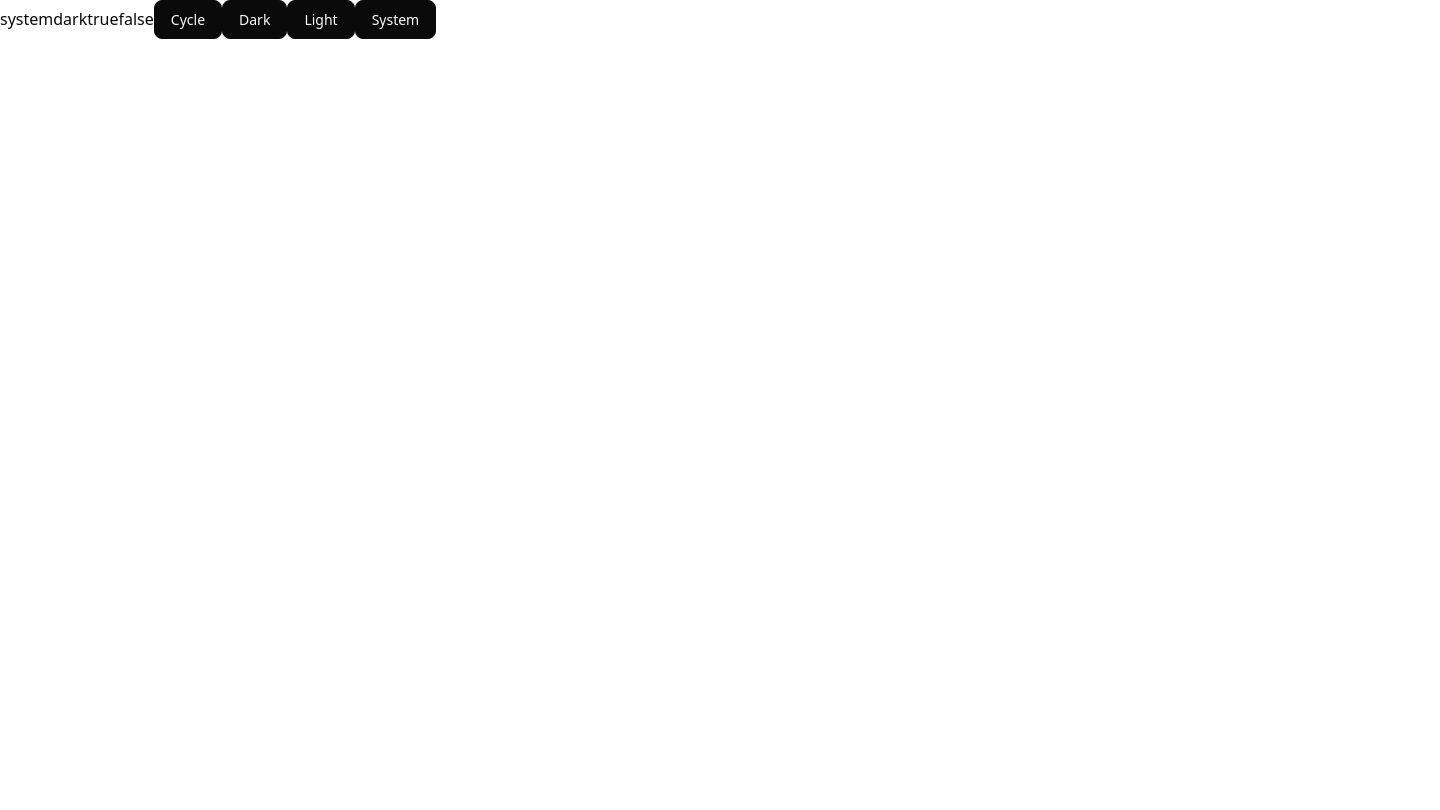
Test case: ThemeProvider › setMode › should set mode to dark
The image size is (1440, 810).
Click the button with test id "set-dark": (255, 20) [222,0,287,39]
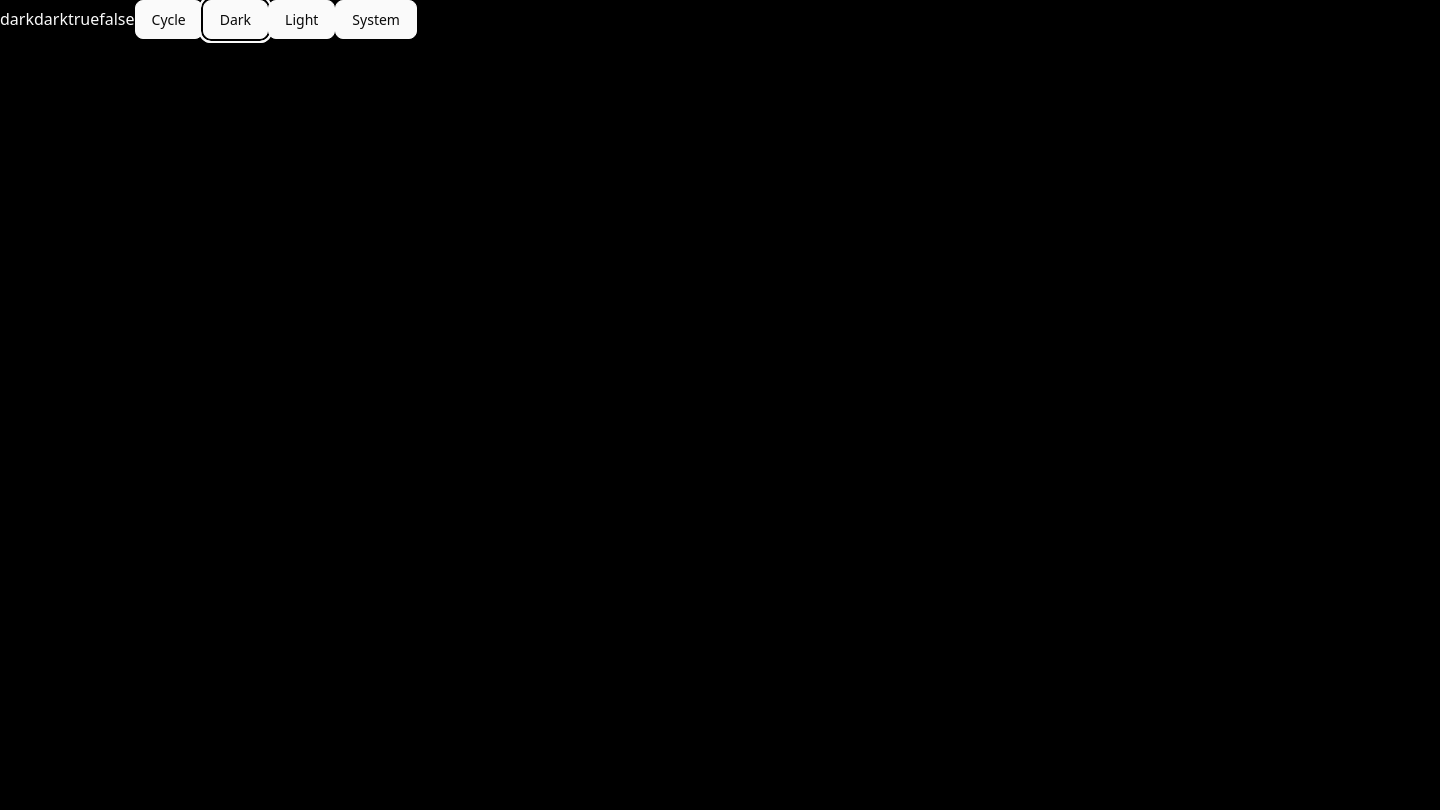
Expected: the text with test id "resolved" reads "dark", [34,8,68,30]
Expected: the text with test id "mode" reads "dark", [0,8,34,30]
